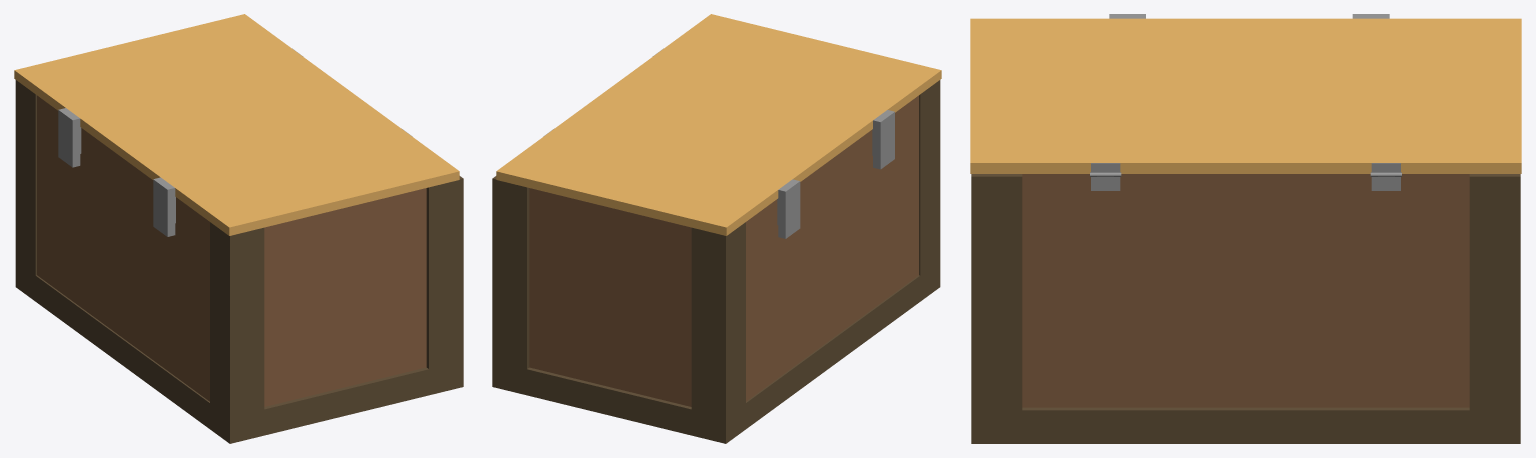
Rendered from Chest.fbx.
The picture shows the model from 3 angles, left to right: view 1: azimuth 30°, elevation 25°; view 2: azimuth 150°, elevation 25°; view 3: azimuth 270°, elevation 25°; orthographic projection. The views are drawn at different scales.
Visible parts, largest first — view 1: Chest; view 2: Chest; view 3: Chest.
Part boxes in pixels (<box>): Chest: <box>14,14,463,443</box>; Chest: <box>492,14,941,443</box>; Chest: <box>970,14,1521,443</box>.
Bounding box in the file's own units: 72.99 × 62.46 × 112.
